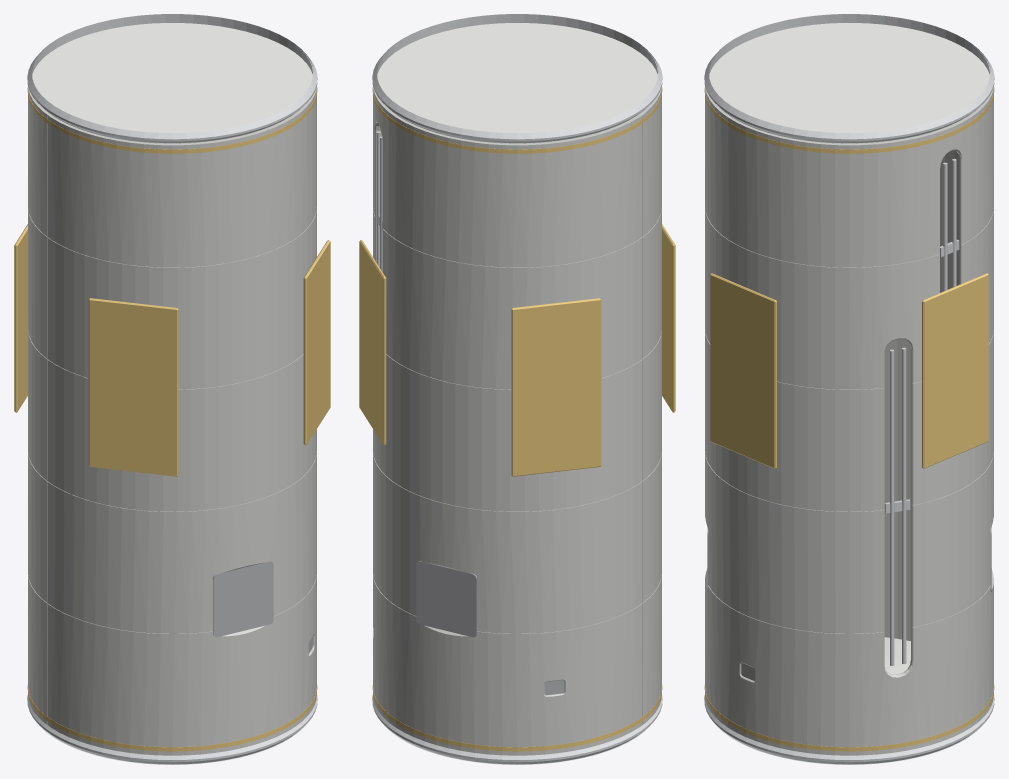
Rendered from ax_tank_10_depot_core.glb.
The picture shows the model from 3 angles, left to right: view 1: azimuth 30°, elevation 25°; view 2: azimuth 150°, elevation 25°; view 3: azimuth 270°, elevation 25°; orthographic projection.
Parts seen in each view (by area): view 1: mli_blanket, dome_caps, sunshield_stowed, end_rings, cryocooler_bay_floors, blanket_bands; view 2: mli_blanket, dome_caps, sunshield_stowed, end_rings, cryocooler_bay_floors, blanket_bands, raceway_lines; view 3: mli_blanket, dome_caps, sunshield_stowed, end_rings, raceway_lines, blanket_bands.
Boxes of the visible parts, x1,y1,x2,y2 form: mli_blanket: [28, 86, 316, 755]; dome_caps: [32, 23, 312, 143]; sunshield_stowed: [14, 224, 330, 476]; end_rings: [27, 14, 317, 764]; cryocooler_bay_floors: [213, 561, 273, 637]; blanket_bands: [27, 87, 317, 751]; mli_blanket: [373, 86, 661, 755]; dome_caps: [377, 23, 657, 143]; sunshield_stowed: [359, 224, 675, 476]; end_rings: [372, 14, 662, 764]; cryocooler_bay_floors: [416, 561, 476, 637]; blanket_bands: [372, 87, 662, 751]; raceway_lines: [376, 131, 382, 271]; mli_blanket: [705, 86, 993, 755]; dome_caps: [709, 23, 989, 674]; sunshield_stowed: [710, 273, 988, 468]; end_rings: [704, 14, 994, 764]; raceway_lines: [885, 158, 959, 665]; blanket_bands: [704, 87, 994, 751].
Bounding box in the file's own units: 5 × 12 × 5.
